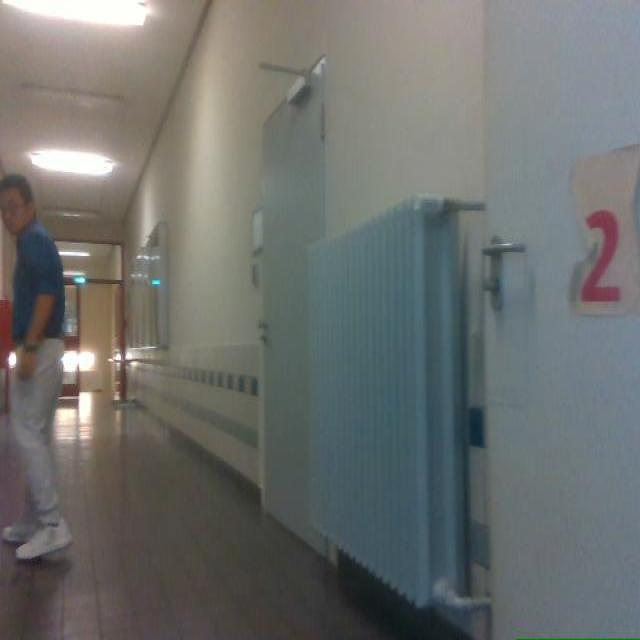humans: (0, 175, 71, 560)
